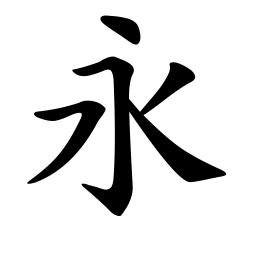D: (97, 12, 144, 46)
HSZ: (103, 54, 135, 87)
Hs: (70, 65, 93, 78)
Ne: (167, 152, 229, 184)
PNc: (131, 100, 154, 128)
PZe: (26, 165, 56, 187)
Ps: (166, 59, 197, 91)
SG: (80, 174, 136, 218)
Sm: (112, 132, 133, 165)
TPZ: (76, 99, 107, 127)
Ts: (33, 108, 59, 123)
